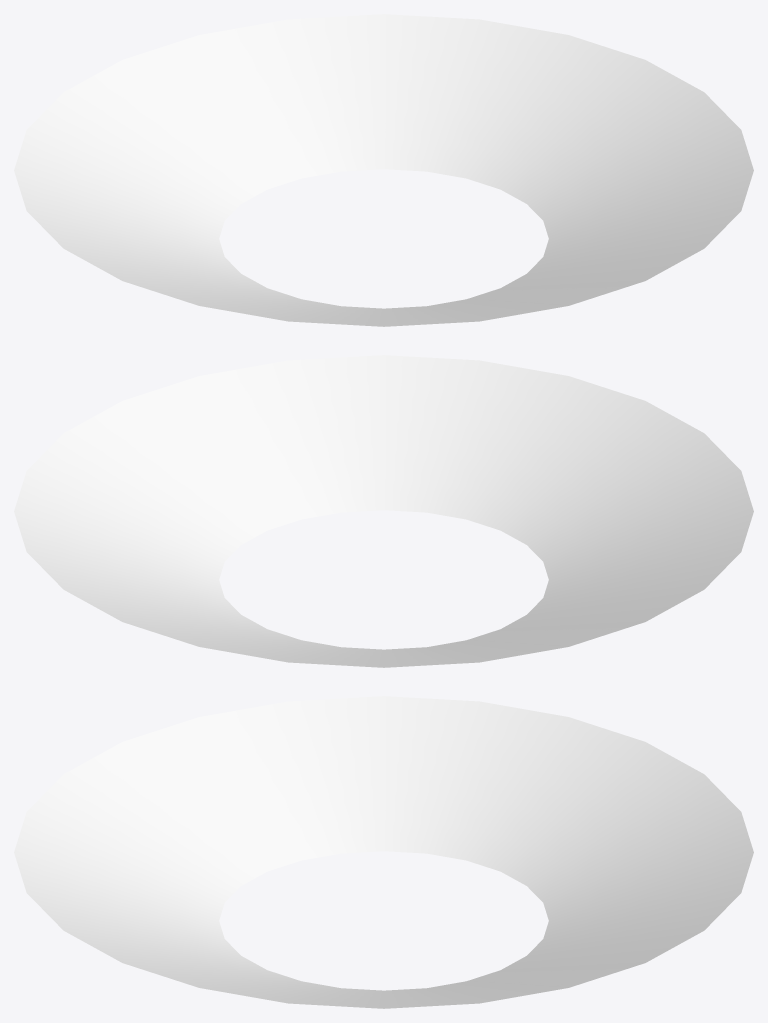
The model's file is Guang.FBX.
3 renders of one model, top to bottom at view 1: azimuth 30°, elevation 25°; view 2: azimuth 150°, elevation 25°; view 3: azimuth 270°, elevation 25°, orthographic.
Parts seen in each view (by area): view 1: Cone001; view 2: Cone001; view 3: Cone001.
Part boxes in pixels (<box>): Cone001: <box>14,14,753,326</box>; Cone001: <box>14,355,753,667</box>; Cone001: <box>14,696,753,1008</box>.
Bounding box in the file's own units: 79.8 × 8.14 × 79.8.
